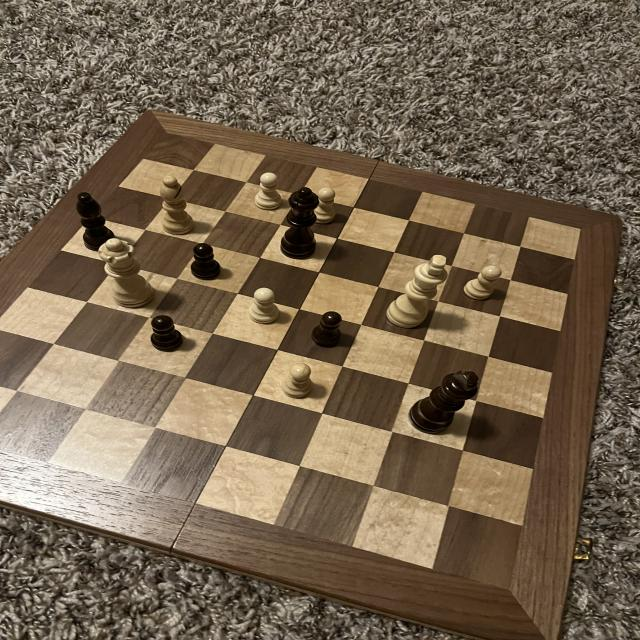bishop: (70, 186, 127, 258)
black-bishop: (408, 368, 487, 438)
black-knight: (187, 242, 230, 292), (147, 313, 193, 356), (307, 309, 348, 350)
black-pawn: (280, 184, 322, 262)
black-rook: (153, 174, 205, 238)
white-bishop: (379, 249, 454, 333)
white-knight: (462, 257, 506, 308), (246, 284, 284, 328), (280, 362, 317, 404), (253, 169, 285, 212), (313, 182, 337, 223)
white-pawn: (95, 235, 163, 311)
